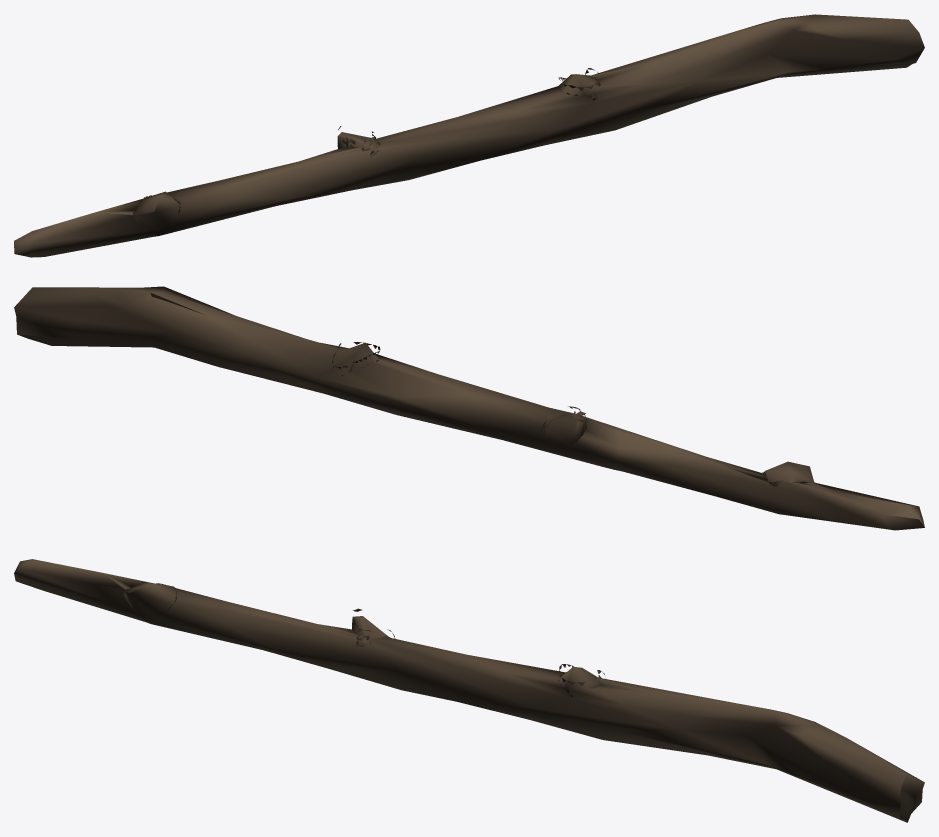
The picture shows the model from 3 angles, top to bottom: view 1: azimuth 30°, elevation 25°; view 2: azimuth 150°, elevation 25°; view 3: azimuth 330°, elevation 25°; orthographic projection.
Visible parts, largest first — view 1: base2.002; view 2: base2.002; view 3: base2.002.
Boxes of the visible parts, x1,y1,x2,y2 form: base2.002: (14,14,924,257); base2.002: (14,286,924,530); base2.002: (14,559,924,822).
Bounding box in the file's own units: 0.5 × 0.0412 × 0.0289.
